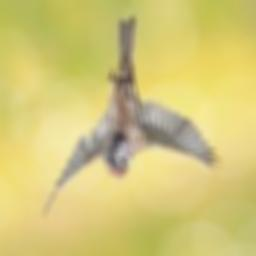Sparrow: (45, 16, 223, 218)
